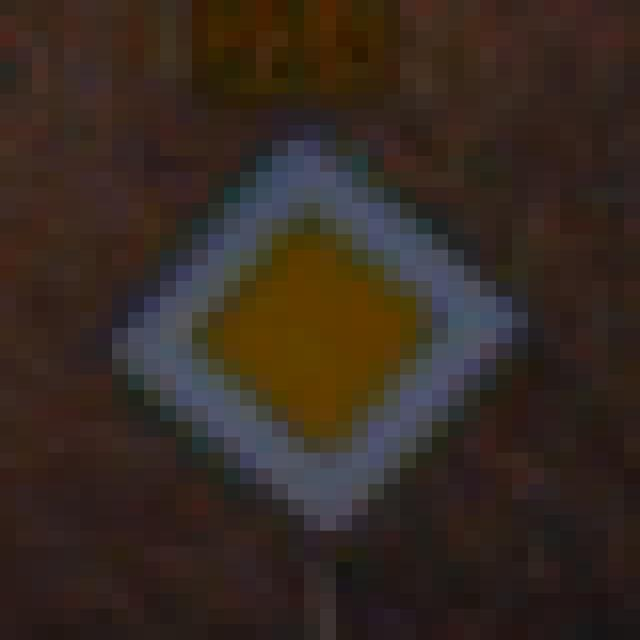Main Road: (81, 95, 561, 563)
